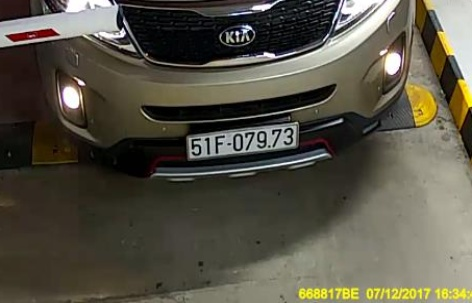plate: (182, 122, 308, 162)
